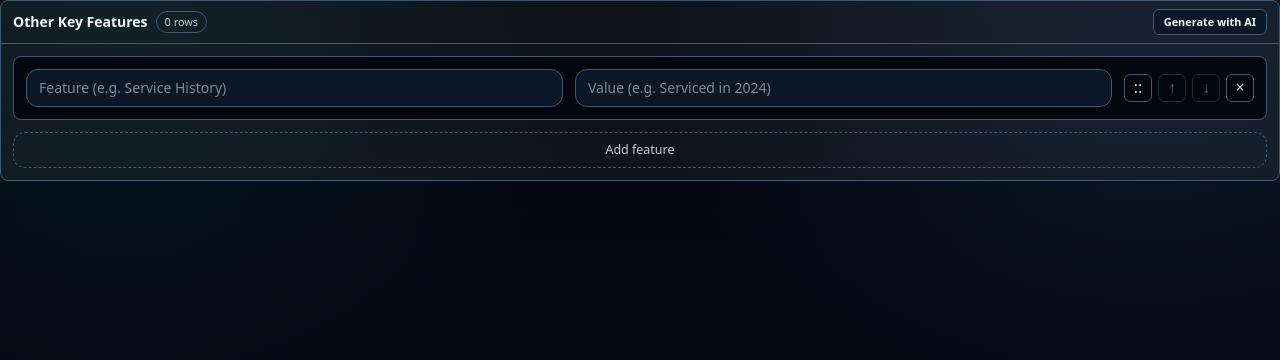
Test: KeyFeaturesEditor › shows an error when AI finds nothing new
Click the button "Generate with AI" at (1210, 22), box [1153, 9, 1267, 34]
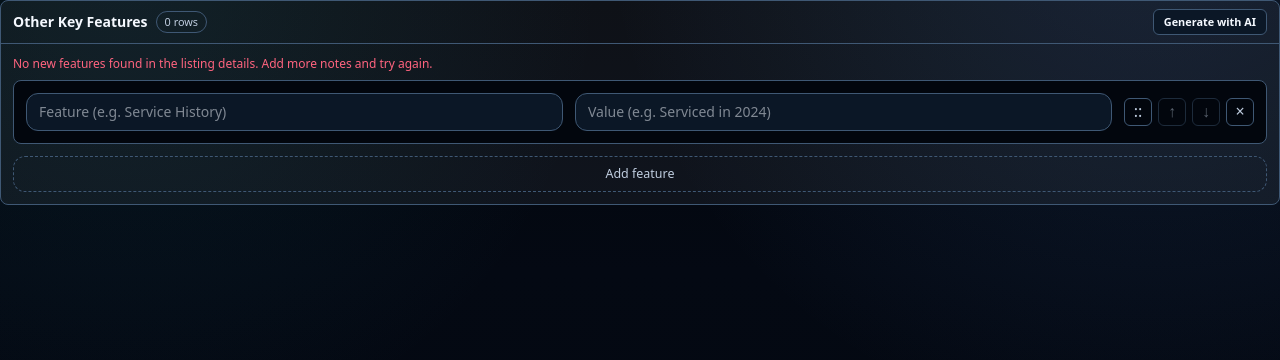
Result: the message shows "No new features" at [13, 54, 432, 72]
